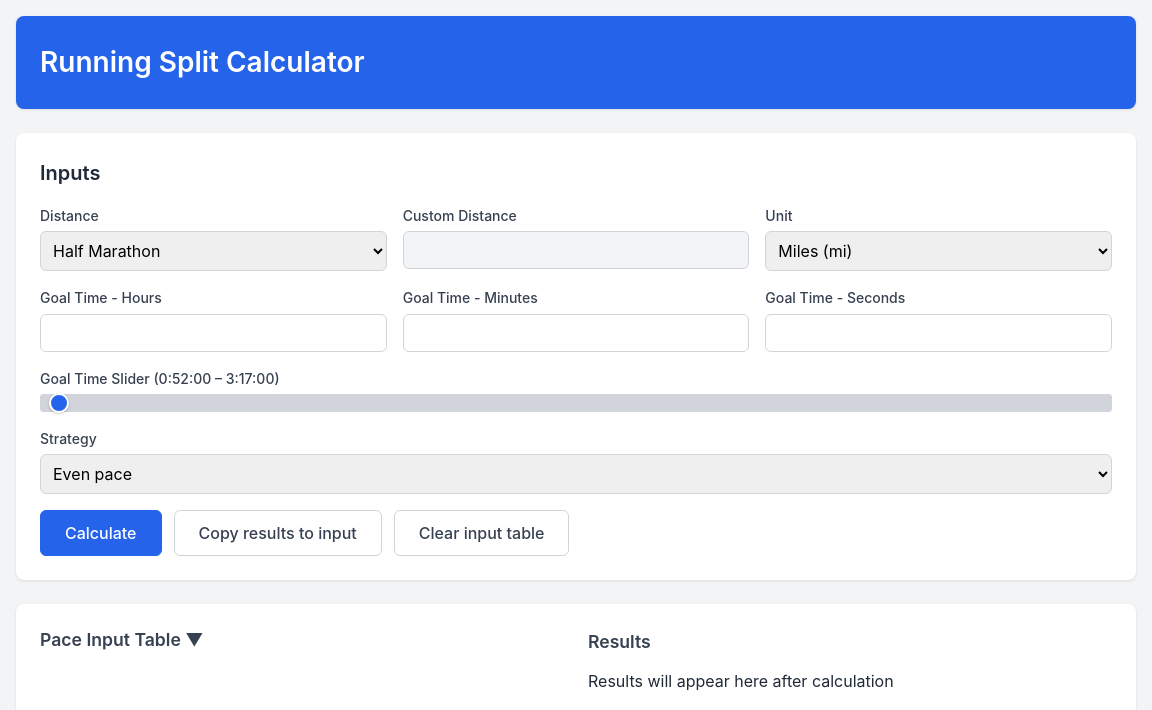
UI Input Table › should render pace inputs for each split
Select "Kilometers (km)" in the dropdown labelled "Unit". click: (939, 251)
box: [765,231,1112,271]
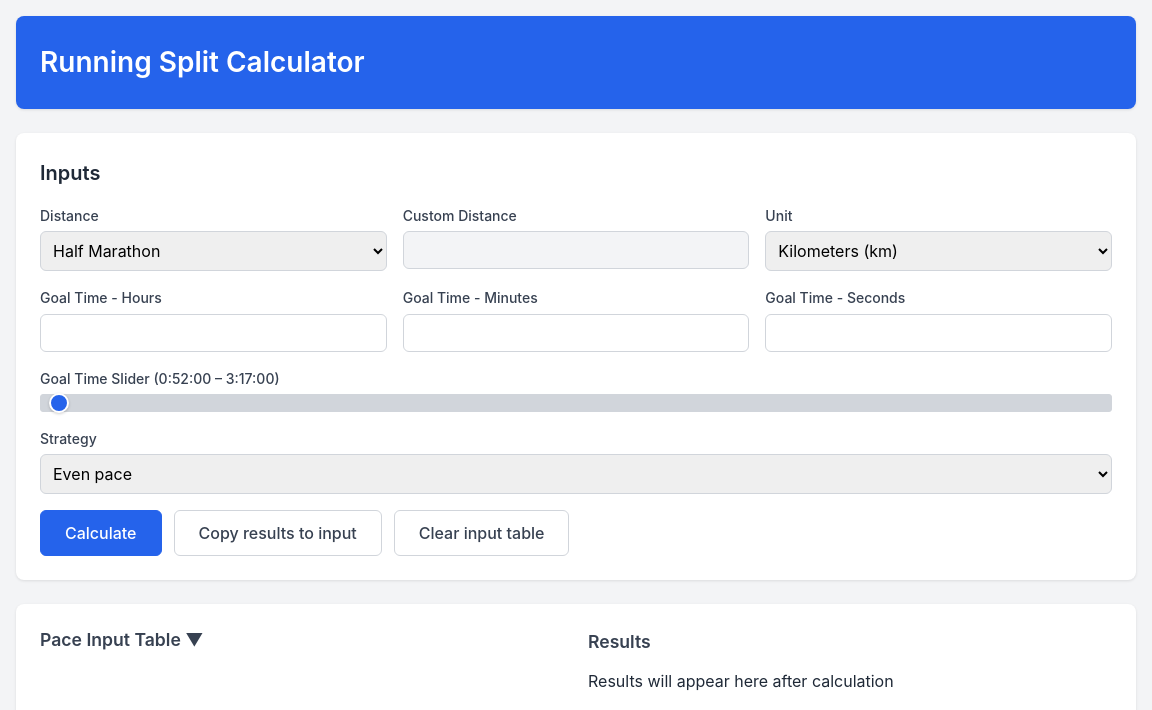
Select "5K" in the dropdown labelled "Distance". click: (213, 251)
box: [40,231,387,271]
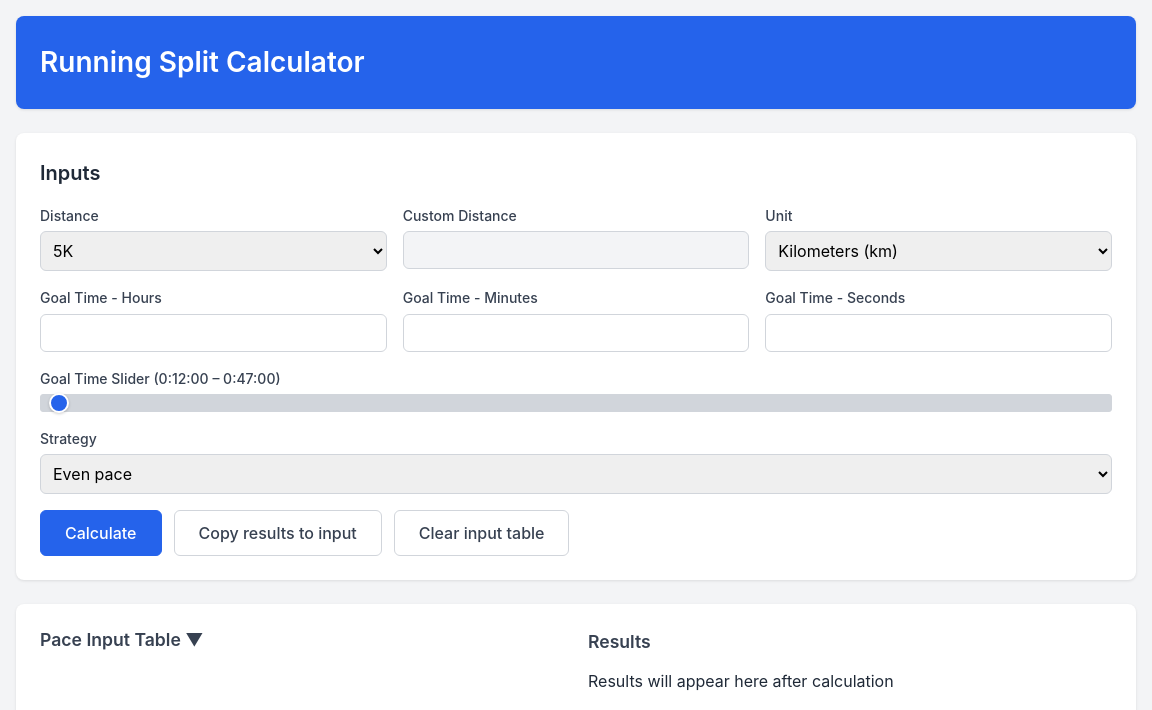
Click the button "Pace Input Table ▼". click: click(113, 640)
box: [40,629,564,662]
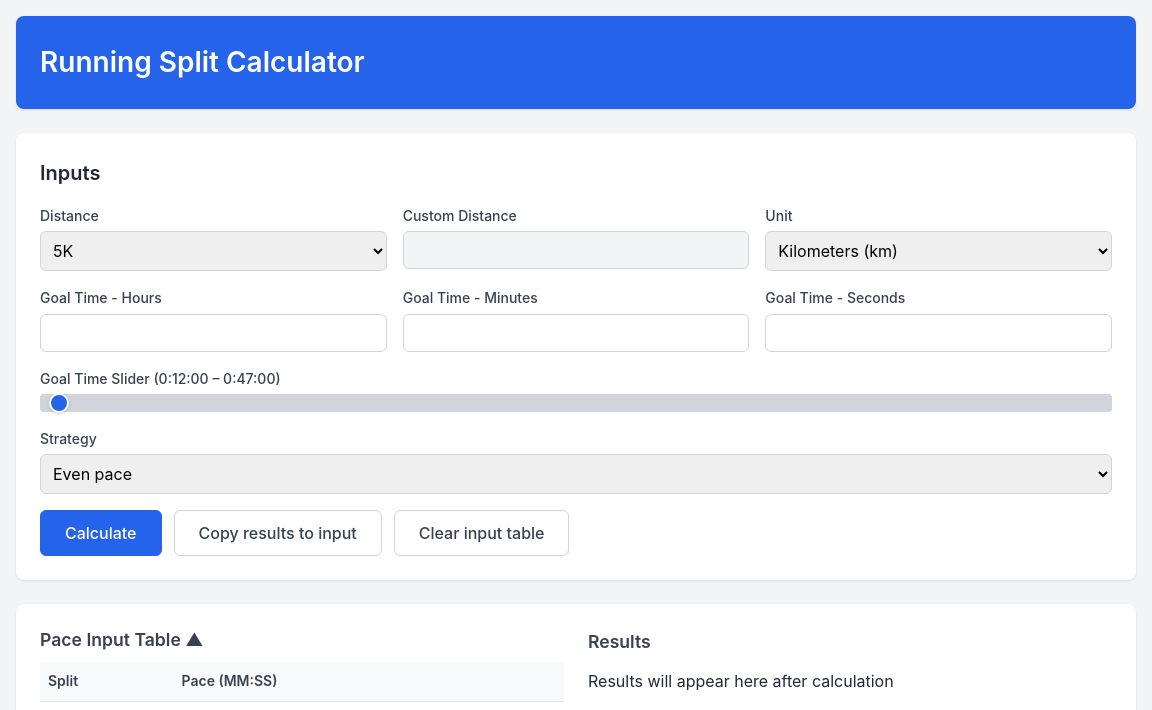
Now the number of fields is 5
